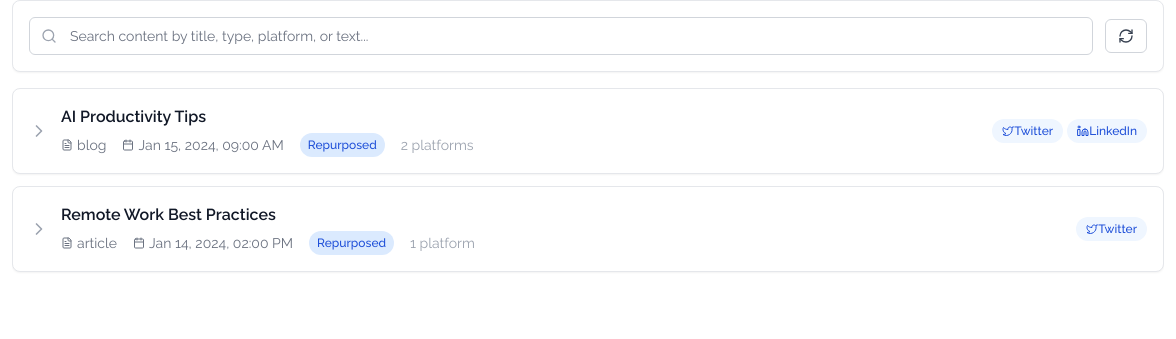
Test case: RecentContentList › should show no results message when search has no matches
Expected: the heading "AI Productivity Tips" is shown, [61, 107, 206, 126]
// Search for something that doesn't exist
Step 1. Type "nonexistent" into the field with placeholder "Search content by title, type, platform, or text..." → (561, 36), box [29, 17, 1093, 55]
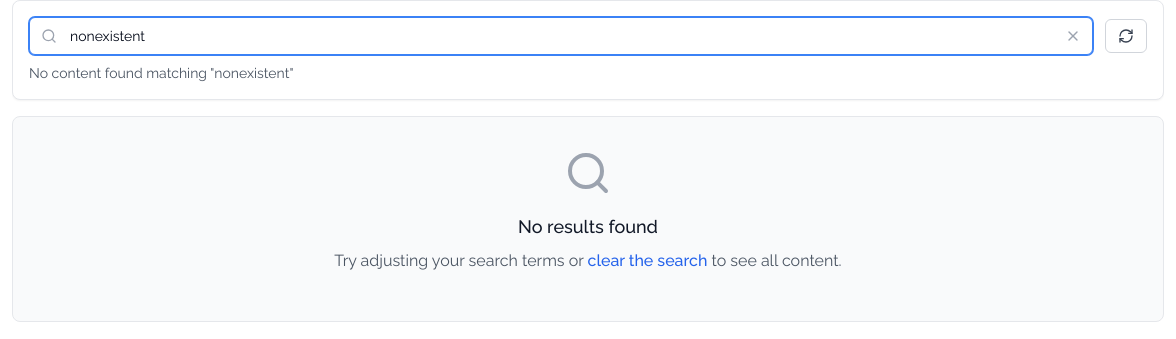
Expected: the heading "No results found" is shown, [518, 216, 658, 237]
Expected: the text "No content found matching \"nonexistent\"" is shown, [29, 65, 294, 81]
